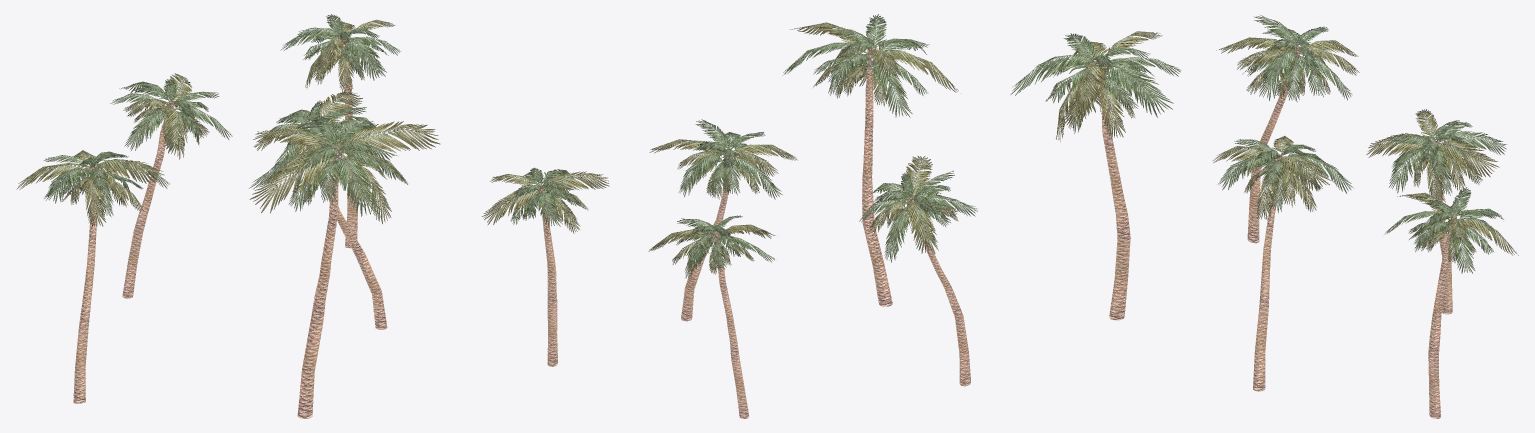
File: realistic_palm_tree_low_poly.glb
The picture shows the model from 3 angles, left to right: view 1: azimuth 30°, elevation 25°; view 2: azimuth 150°, elevation 25°; view 3: azimuth 270°, elevation 25°; orthographic projection. The views are drawn at different scales.
Visible parts, largest first — view 1: Palm Tree By Hamza_002, Palm Tree By Hamza_003, Palm Tree By Hamza_004, Palm Tree By Hamza_006, Palm Tree By Hamza_005; view 2: Palm Tree By Hamza_002, Palm Tree By Hamza_003, Palm Tree By Hamza_005, Palm Tree By Hamza_006, Palm Tree By Hamza_004; view 3: Palm Tree By Hamza_002, Palm Tree By Hamza_005, Palm Tree By Hamza_003, Palm Tree By Hamza_004, Palm Tree By Hamza_006.
Part boxes in pixels (bbox=[...]): Palm Tree By Hamza_002: bbox=[249, 116, 440, 418]; Palm Tree By Hamza_003: bbox=[16, 150, 169, 403]; Palm Tree By Hamza_004: bbox=[110, 73, 232, 298]; Palm Tree By Hamza_006: bbox=[280, 14, 400, 248]; Palm Tree By Hamza_005: bbox=[253, 91, 387, 329]; Palm Tree By Hamza_002: bbox=[782, 14, 958, 306]; Palm Tree By Hamza_003: bbox=[859, 156, 977, 386]; Palm Tree By Hamza_005: bbox=[649, 119, 797, 321]; Palm Tree By Hamza_006: bbox=[481, 167, 609, 366]; Palm Tree By Hamza_004: bbox=[648, 215, 775, 418]; Palm Tree By Hamza_002: bbox=[1010, 31, 1181, 320]; Palm Tree By Hamza_005: bbox=[1213, 136, 1353, 391]; Palm Tree By Hamza_003: bbox=[1216, 15, 1359, 243]; Palm Tree By Hamza_004: bbox=[1366, 109, 1506, 314]; Palm Tree By Hamza_006: bbox=[1384, 187, 1518, 418].
Size of the model in its own units: 16.8 by 10.29 by 16.89.
Materials: 1 (1 with a texture image).
